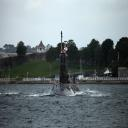submarine: (45, 27, 87, 98)
